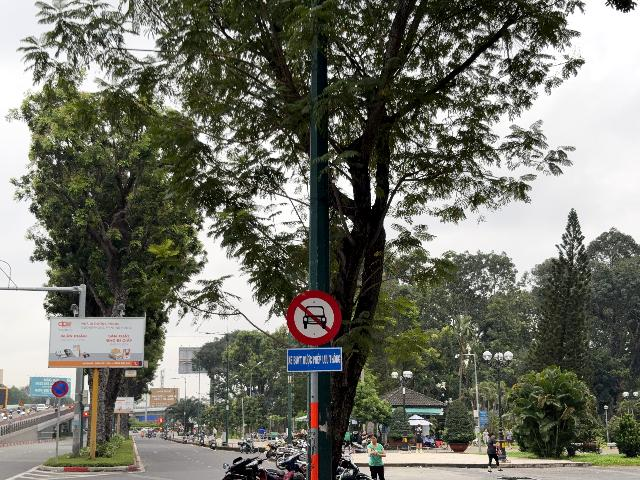cam-o-to: (286, 289, 341, 346)
